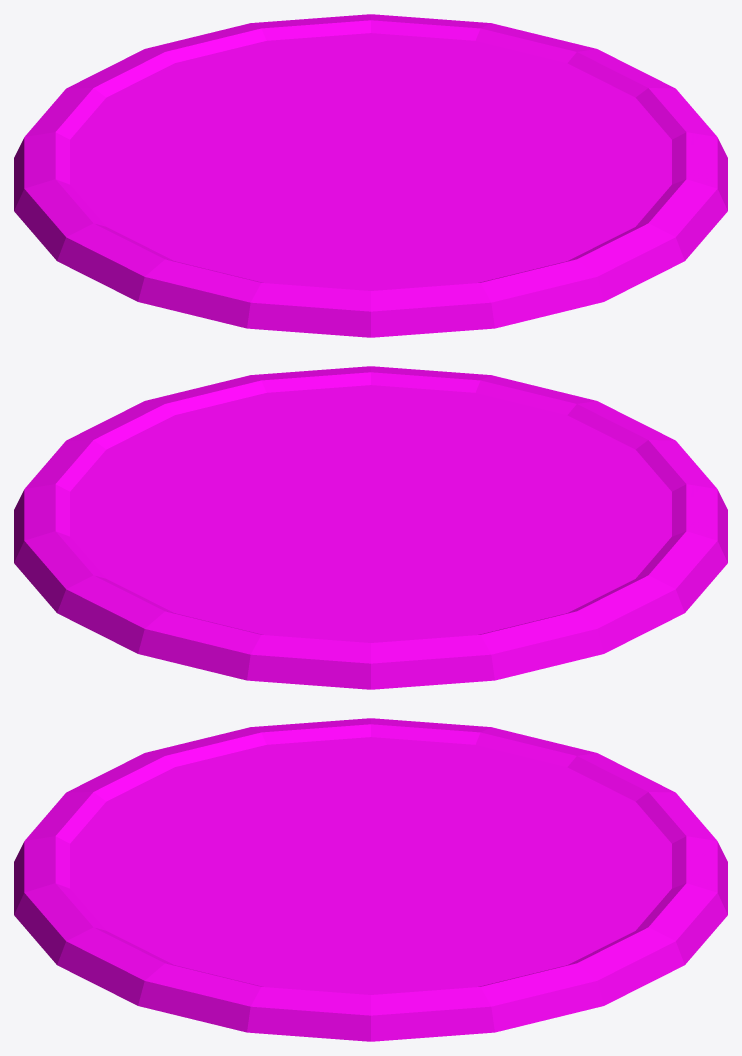
File: umgebung_pizza_low.FBX
The picture shows the model from 3 angles, top to bottom: view 1: azimuth 30°, elevation 25°; view 2: azimuth 150°, elevation 25°; view 3: azimuth 270°, elevation 25°; orthographic projection.
Parts seen in each view (by area): view 1: o_pizza_low; view 2: o_pizza_low; view 3: o_pizza_low.
Boxes of the visible parts, x1,y1,x2,y2 form: o_pizza_low: (14, 14, 727, 337); o_pizza_low: (14, 366, 727, 689); o_pizza_low: (14, 718, 727, 1041).
Size of the model in its own units: 49.04 by 48.3 by 2.16.
